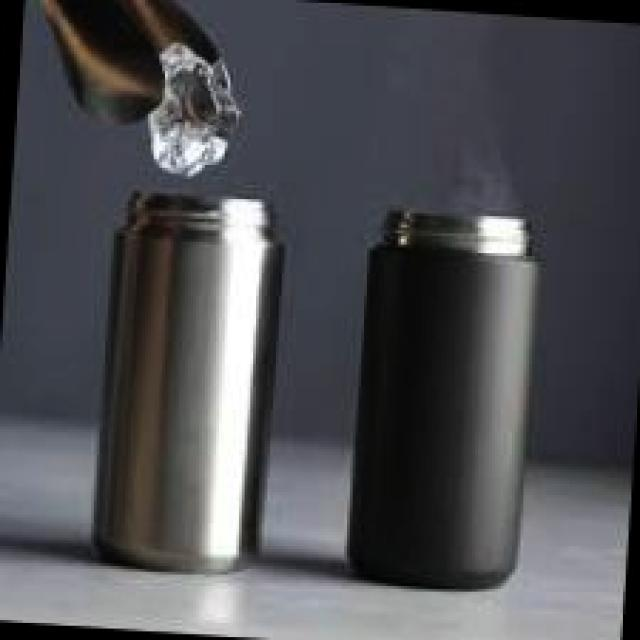bottle: (334, 190, 553, 598), (72, 178, 292, 579)
